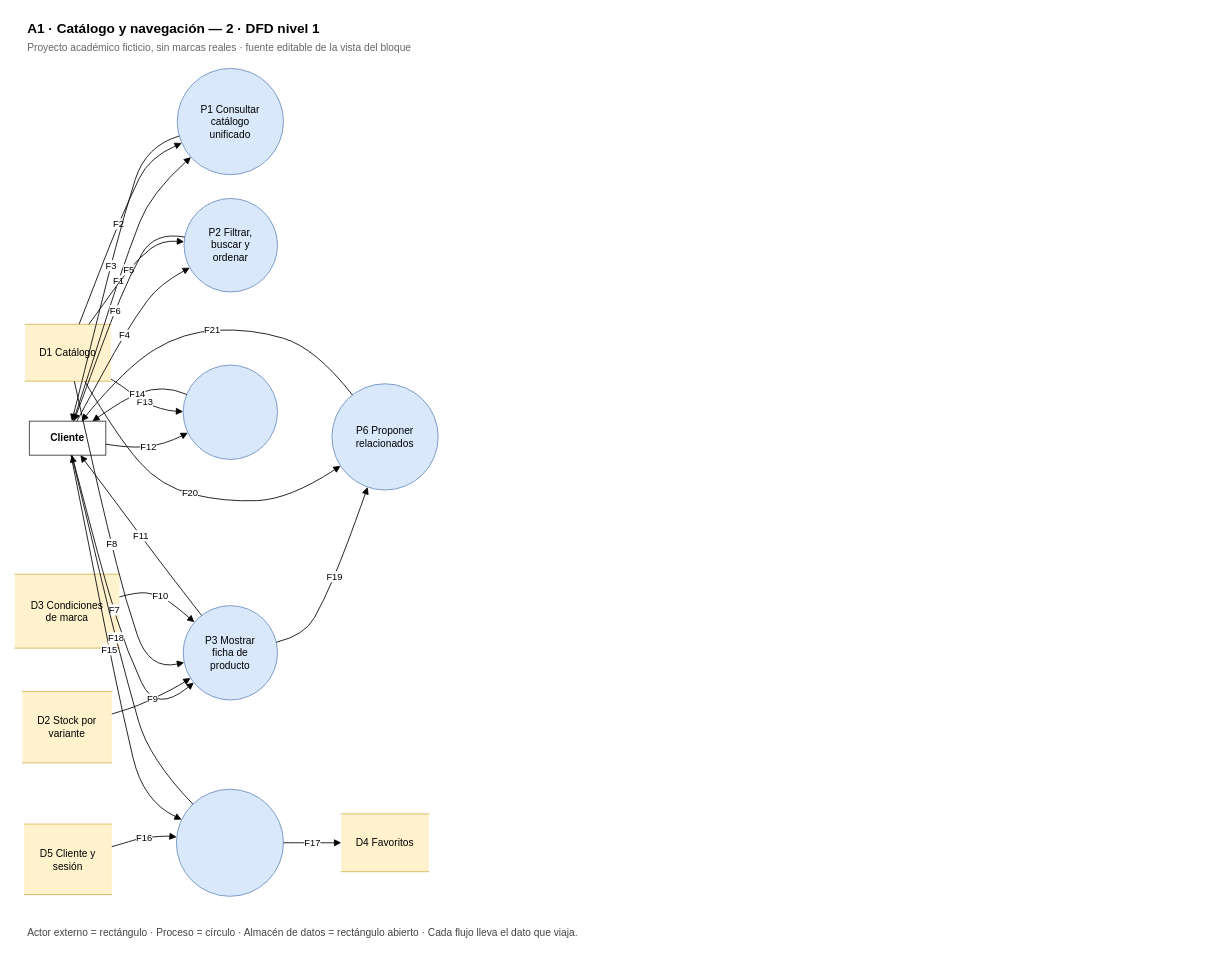
The diagram is 1231 pixels wide and 955 high, and some of its shapes have lost their labels. Each missing label, with the centre of its shape:
P4 Mostrar página de marca: (230,411)
P5 Gestionar favoritos: (229,842)
